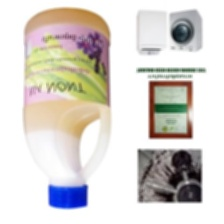cleaning_solution: (21, 6, 112, 214)
